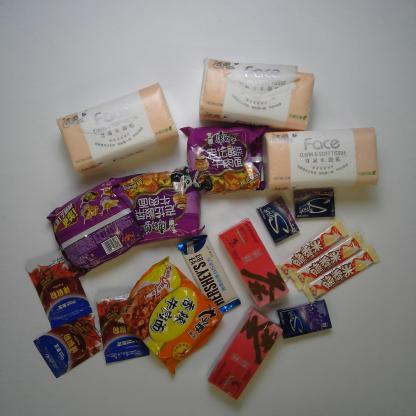Chocolate: (178, 233, 244, 316), (301, 244, 381, 305), (275, 219, 350, 284), (290, 230, 367, 292)
Gum: (274, 300, 333, 340), (258, 197, 302, 244), (292, 187, 336, 219)
Instant Drink: (204, 304, 286, 401), (220, 218, 291, 308)
Instant Noodles: (115, 258, 222, 371), (44, 175, 146, 279), (118, 162, 207, 246), (178, 122, 270, 195)
Seasoner: (24, 248, 96, 329), (32, 308, 102, 379), (94, 291, 151, 365)
Tissue: (54, 81, 180, 175), (197, 57, 315, 130), (262, 126, 380, 192)
